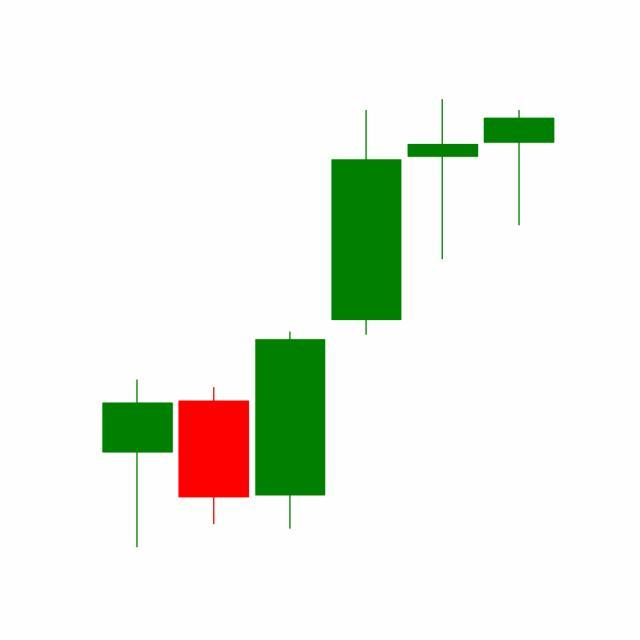Advance Block: (252, 100, 482, 535)
